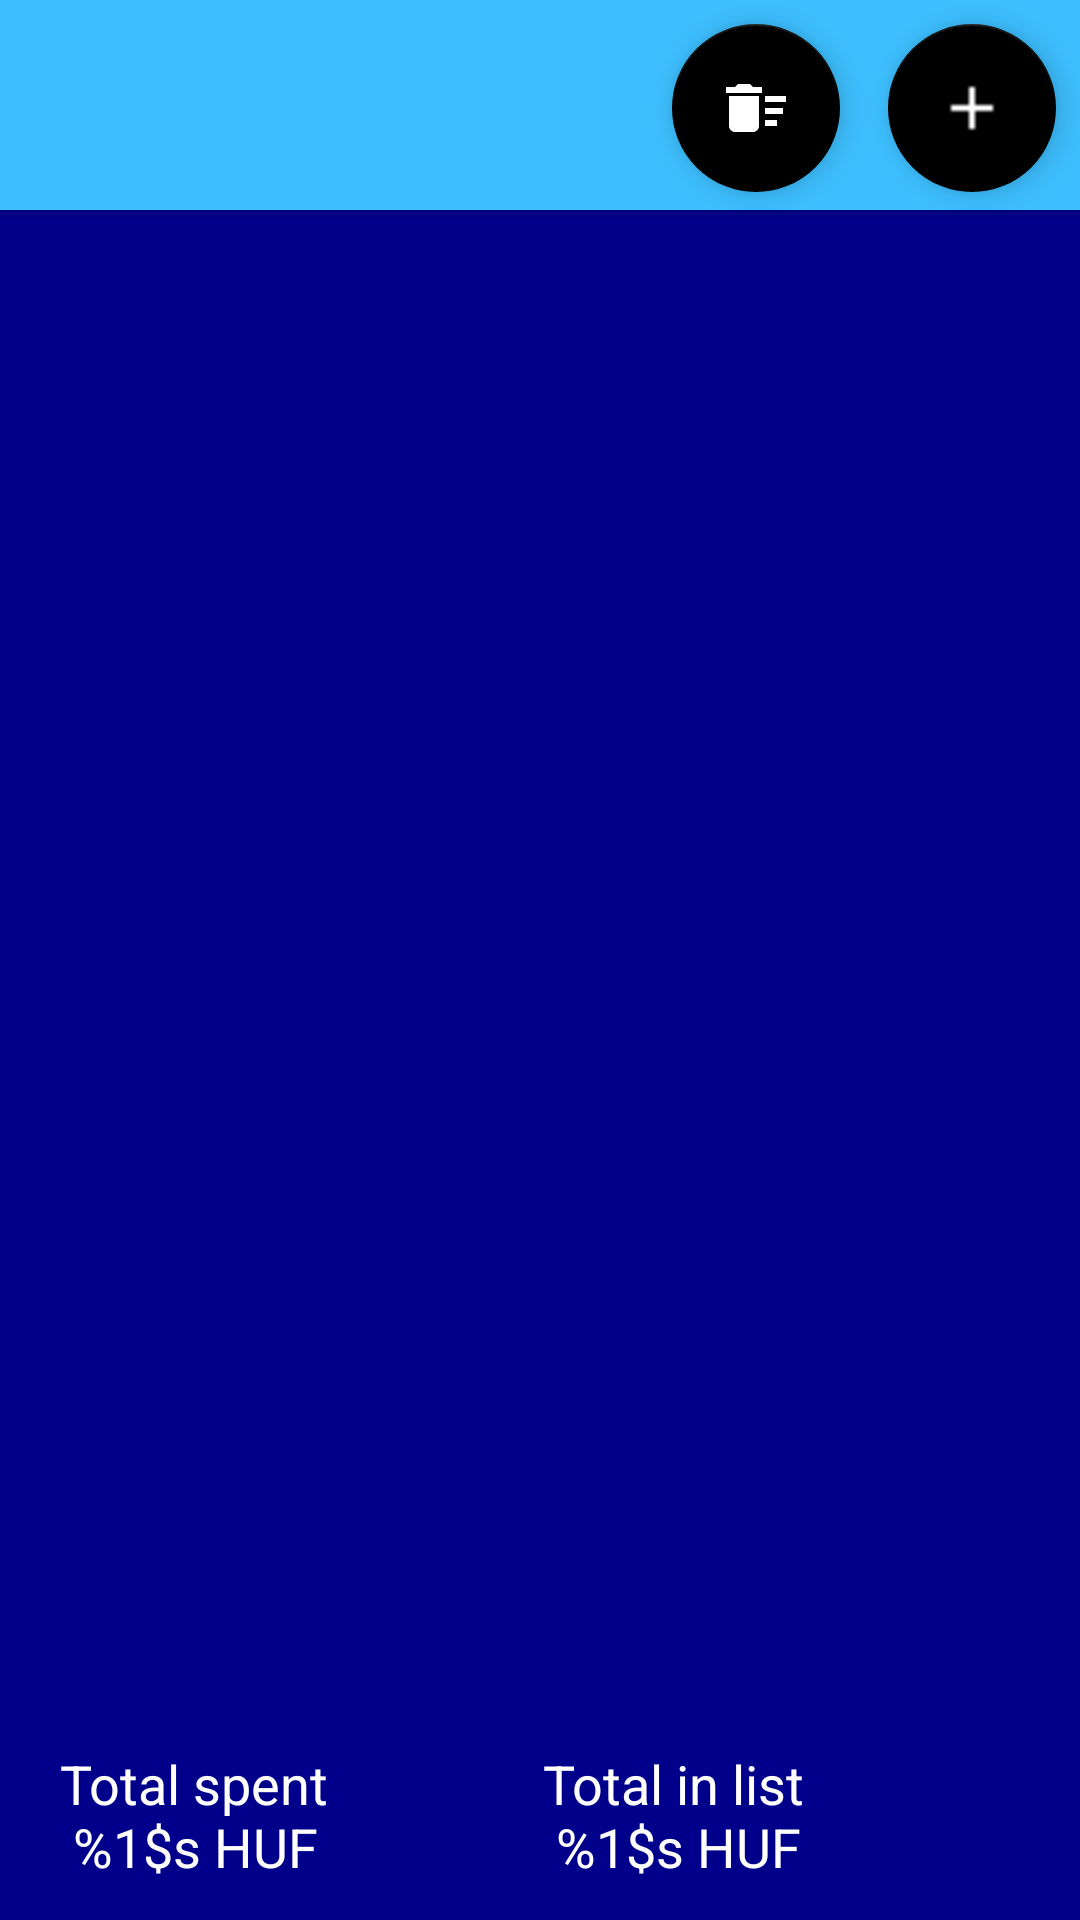

Point at icon controls on the screen. Image size 1080x1920, points as (x,y).
add: (972,108)
delete sweep: (756,108)
